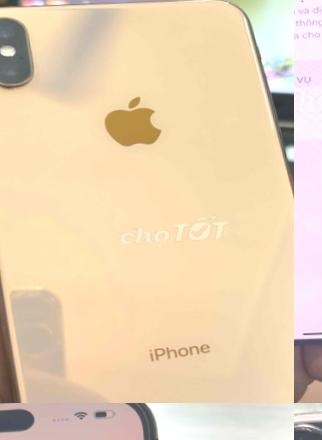scratch: (294, 417, 322, 440)
